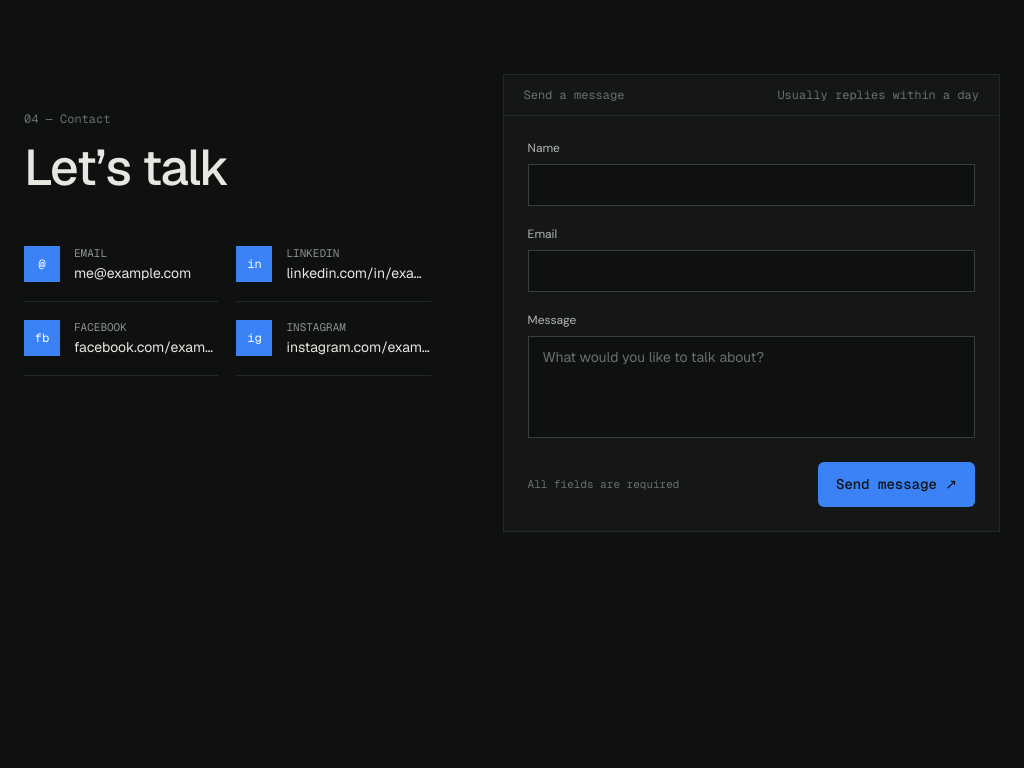
Scenario: Contact › submits the form and shows a success modal
Type "Jane Doe" into the field labelled "Name" at (751, 185), box 528,164 -> 975,206
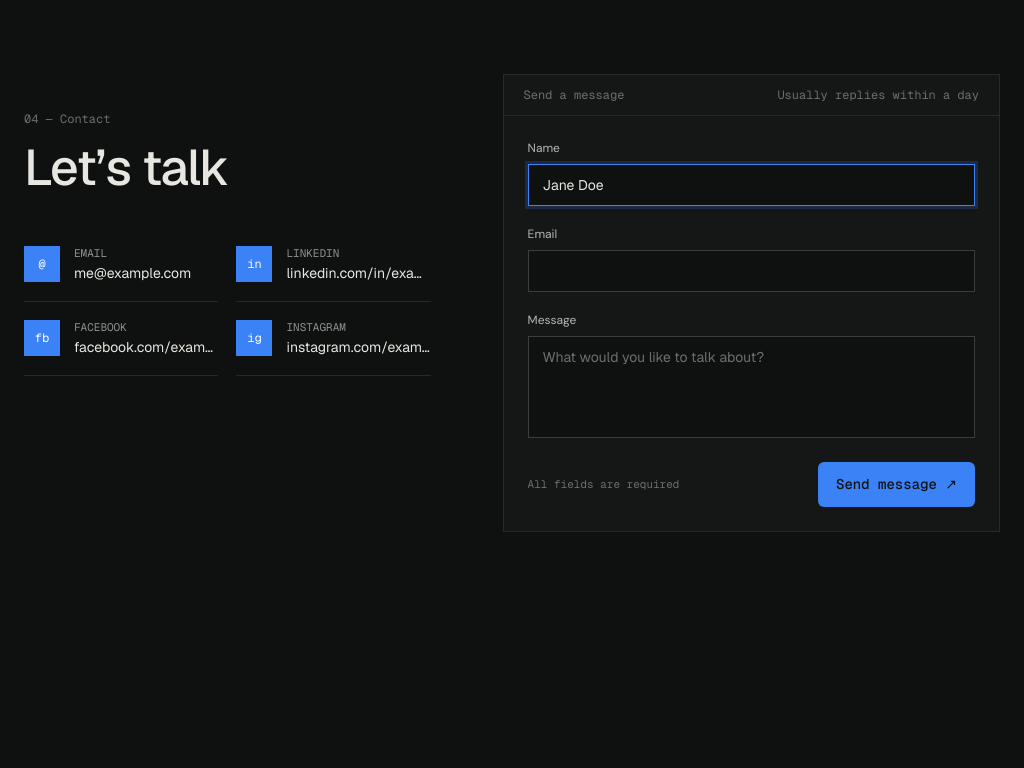
Type "jane@example.com" into the field labelled "Email" at (751, 271), box 528,250 -> 975,292
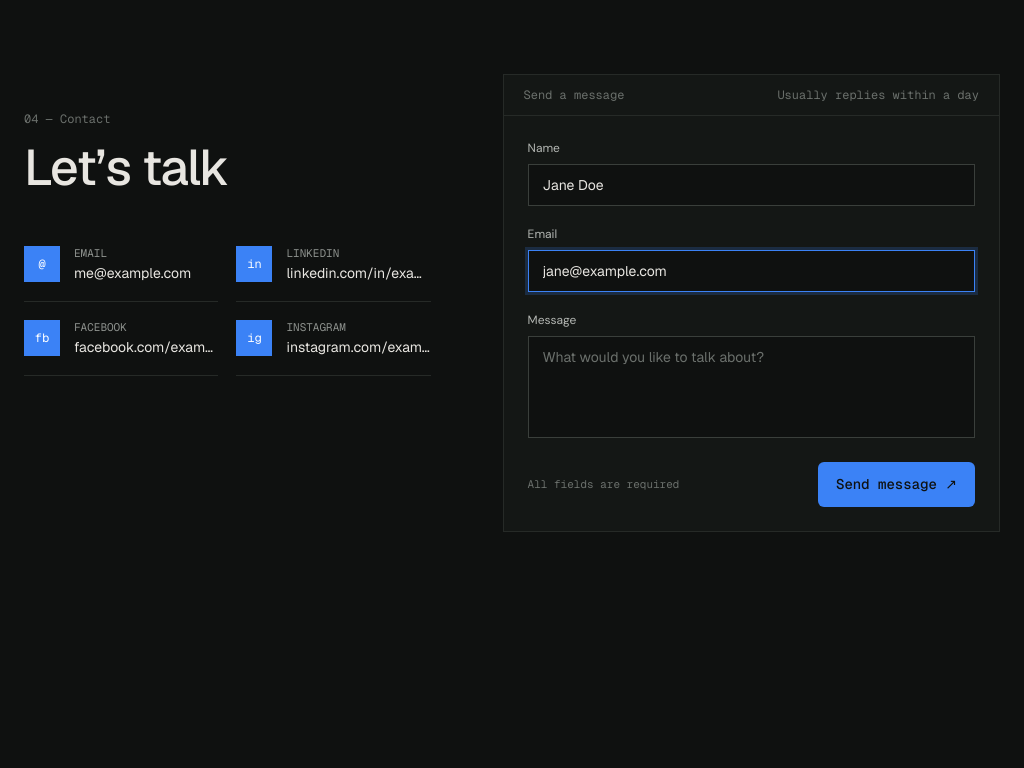
Type "Hello there" into the text box labelled "Message" at (751, 387), box 528,336 -> 975,438
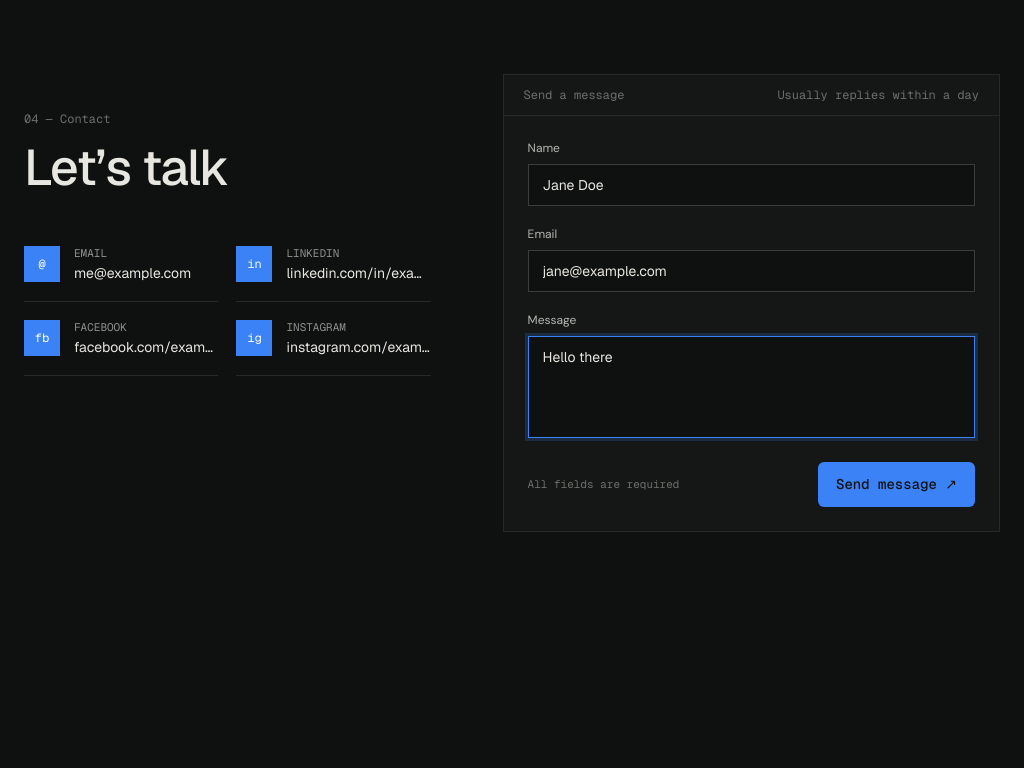
Click the button "Send message ↗" at (897, 484), box 818,462 -> 975,507
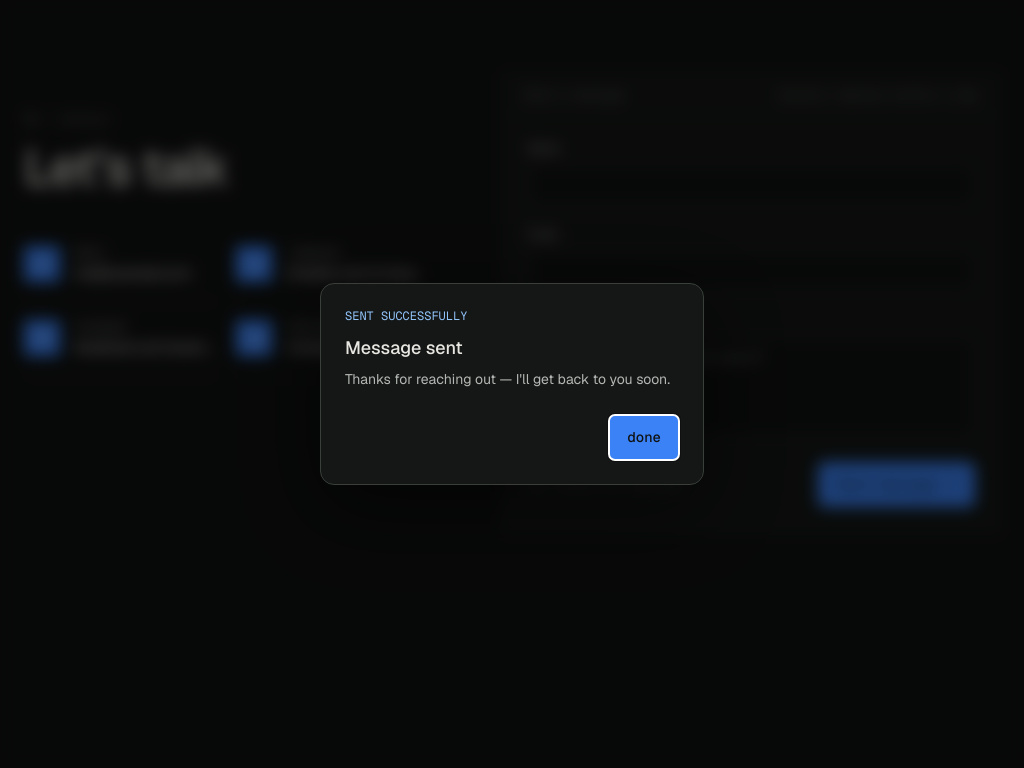
Expected: the heading "Message sent" is shown, 345,336 -> 463,359
